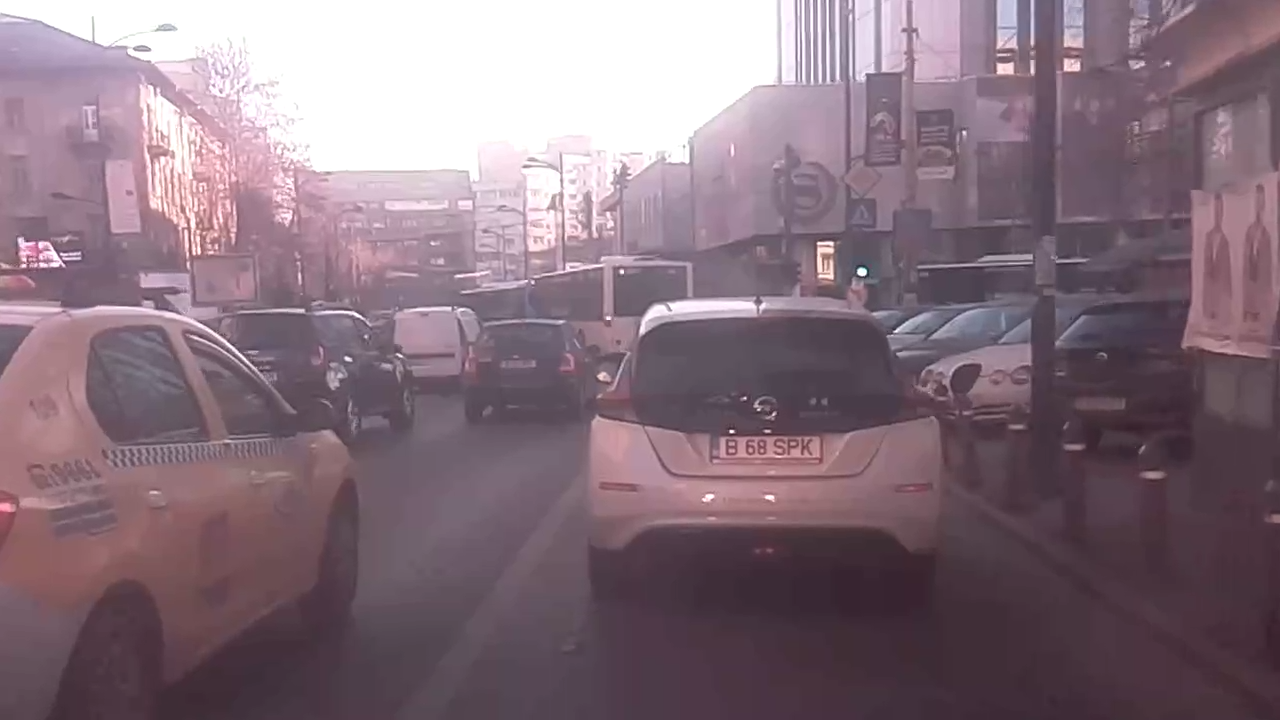license-plate: (706, 425, 826, 464)
